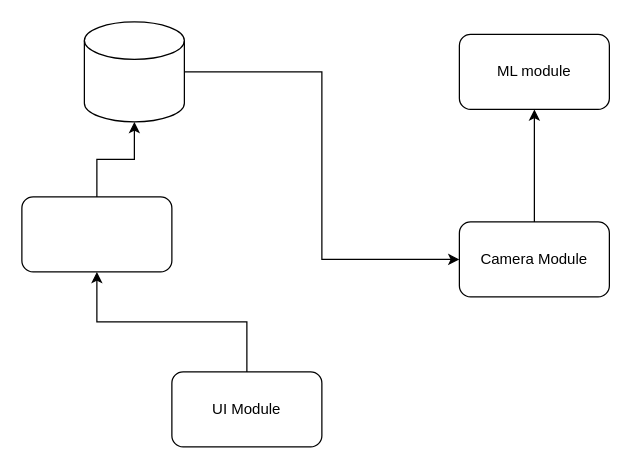
Some shapes in this 631 by 469 pixel diagram are drawn without their labels. Each missing label, with the centre of its shape:
Badge Module: point (96, 234)
User DB: point (133, 71)
